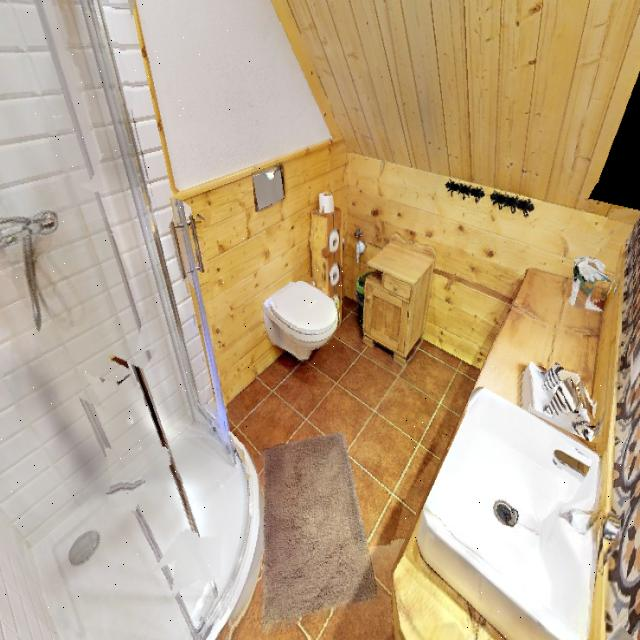shower: (0, 0, 265, 640)
sink: (405, 363, 634, 640)
toilet: (254, 270, 348, 372)
